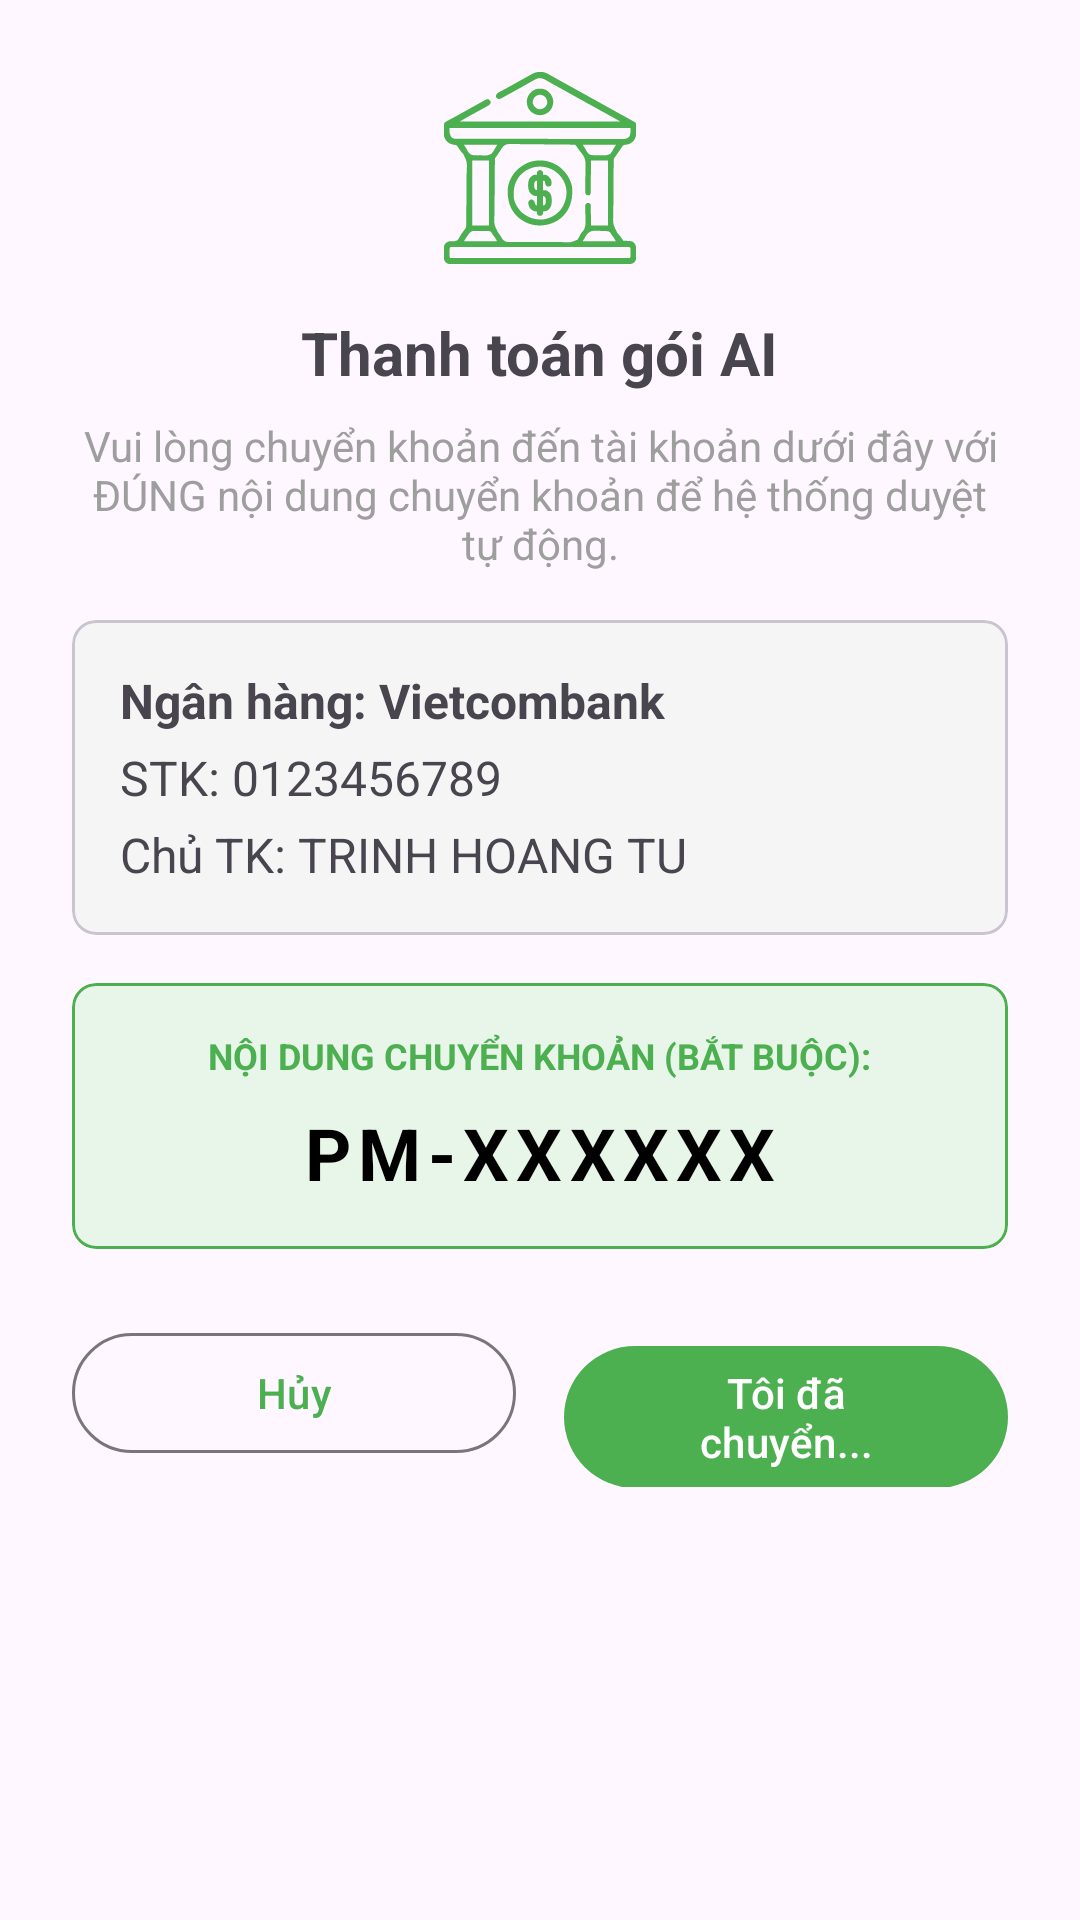

Where to tap for icons on this 1080x1920 app screen, as (x,y):
bank: (540,168)
